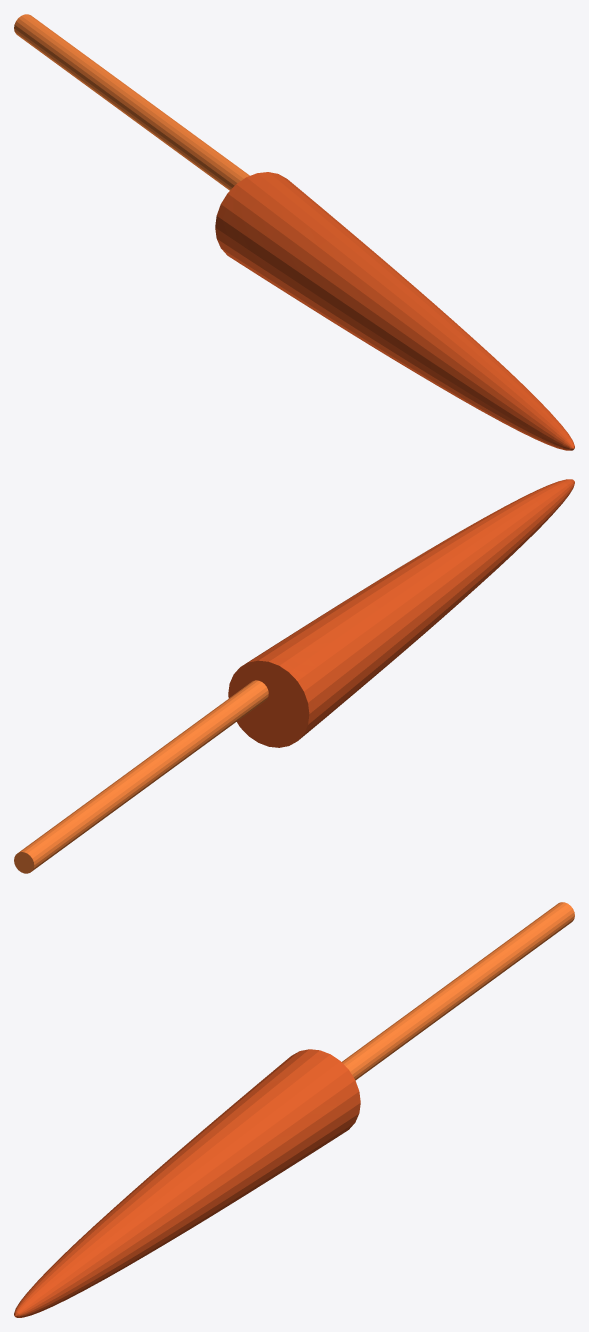
File: tinker.obj
The picture shows the model from 3 angles, top to bottom: view 1: azimuth 30°, elevation 25°; view 2: azimuth 150°, elevation 25°; view 3: azimuth 330°, elevation 25°; orthographic projection. The views are drawn at different scales.
Parts seen in each view (by area): view 1: group_0_14900002, group_0_16745527; view 2: group_0_14900002, group_0_16745527; view 3: group_0_14900002, group_0_16745527.
Part boxes in pixels (left/top/right/bottom): group_0_14900002: left=215, top=172, right=574, bottom=450; group_0_16745527: left=14, top=14, right=249, bottom=190; group_0_14900002: left=228, top=479, right=574, bottom=747; group_0_16745527: left=14, top=680, right=268, bottom=873; group_0_14900002: left=14, top=1049, right=360, bottom=1317; group_0_16745527: left=342, top=902, right=574, bottom=1080.
Bounding box in the file's own units: 2 × 2 × 23.
